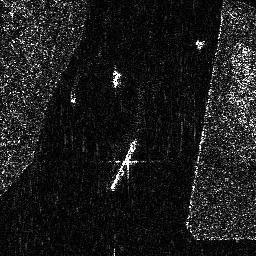ship: (110, 138, 139, 191)
